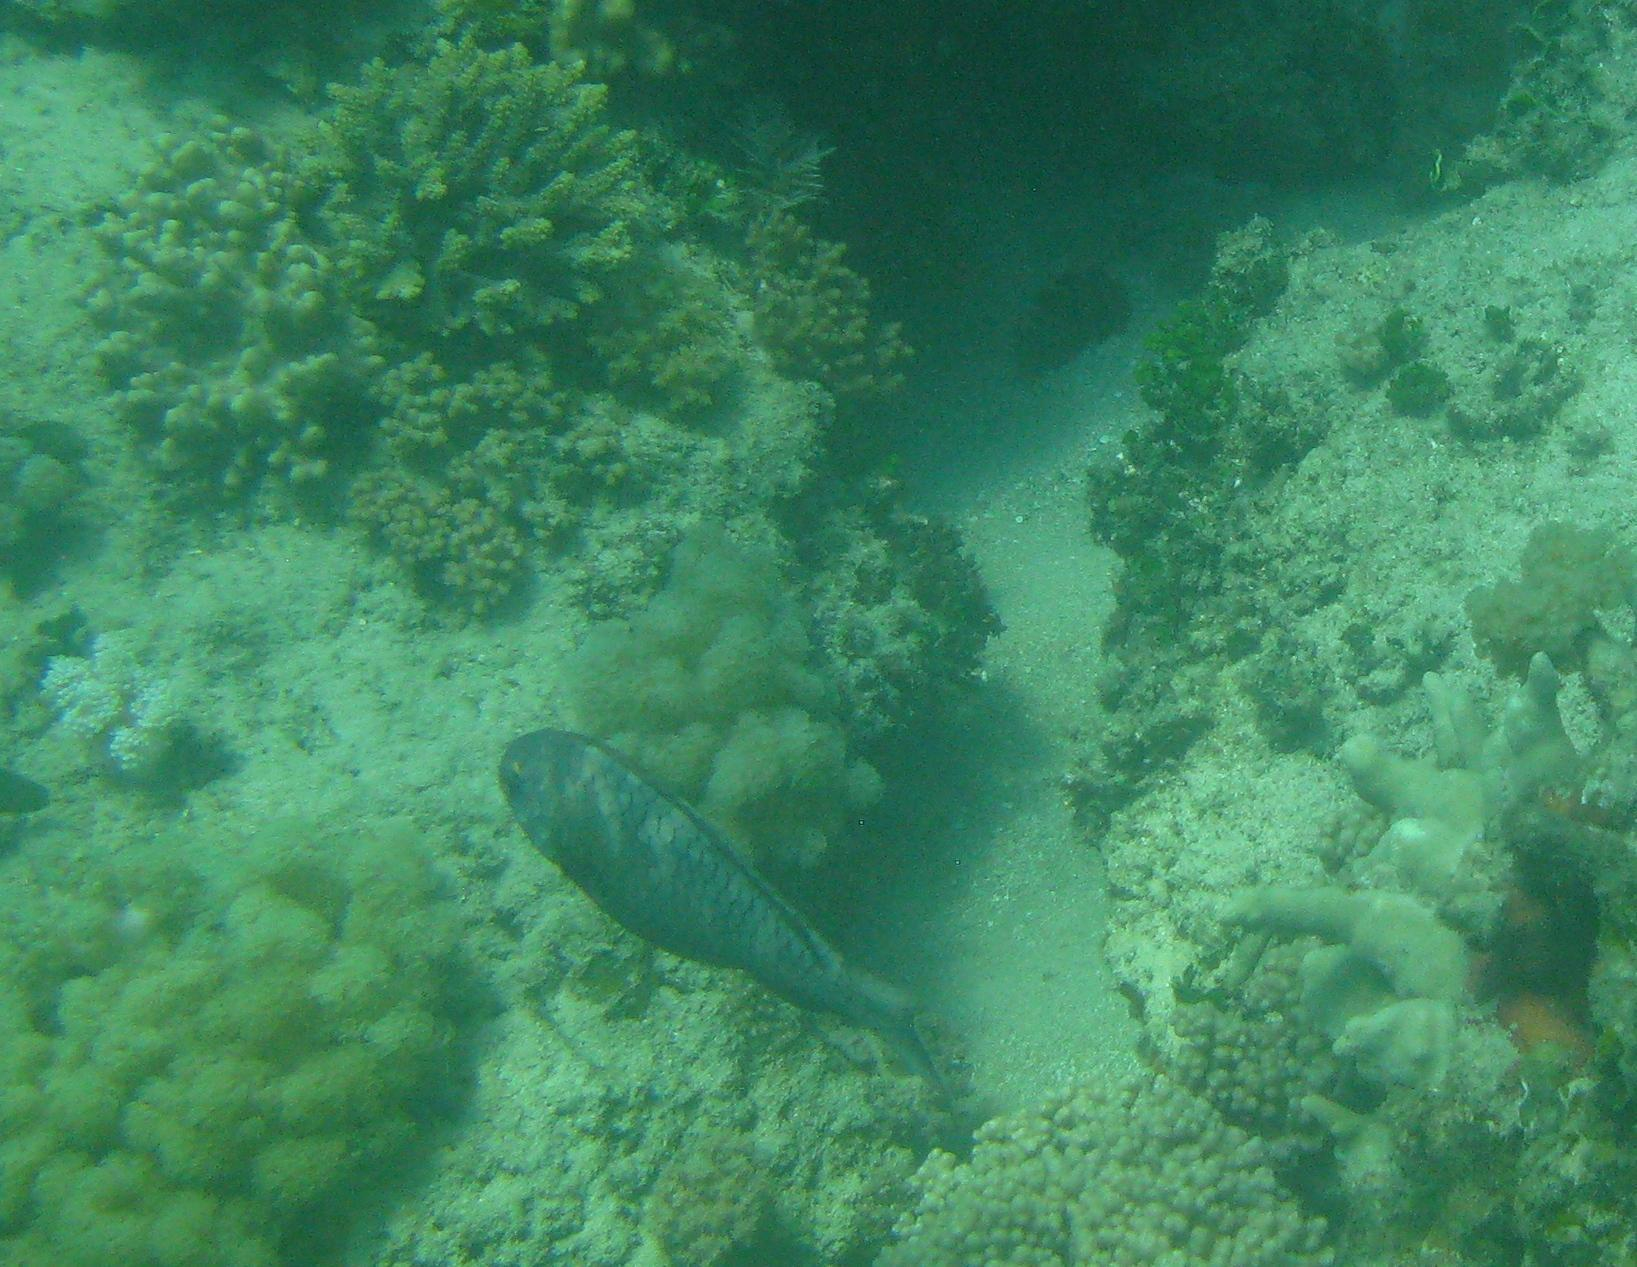Fish: (470, 713, 982, 1130)
